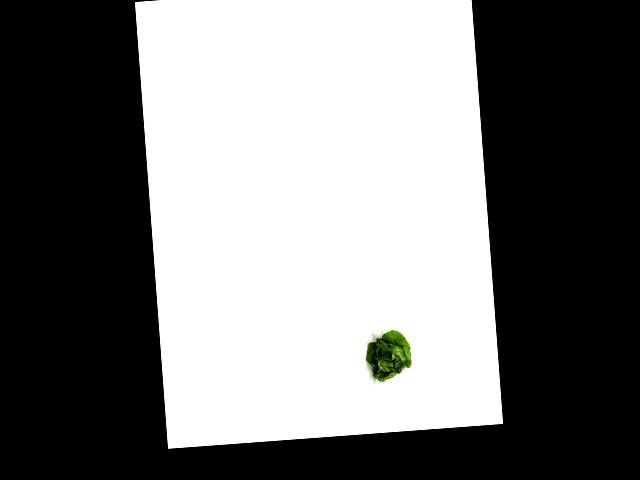lettuce: (361, 328, 417, 384)
